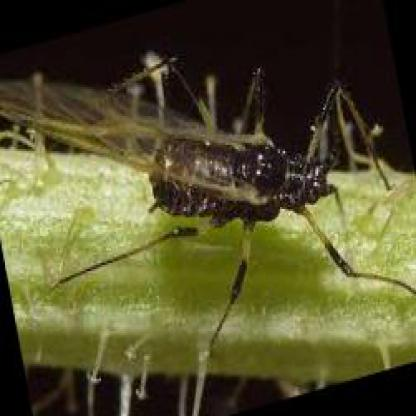uroleucon compositae: (5, 57, 350, 303)
